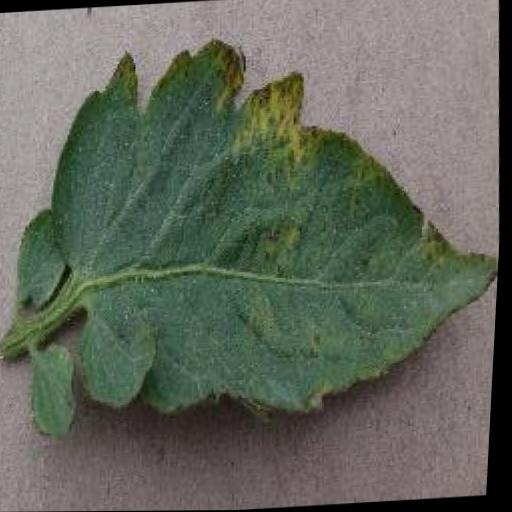Bacterial Spot: (30, 17, 511, 441)
